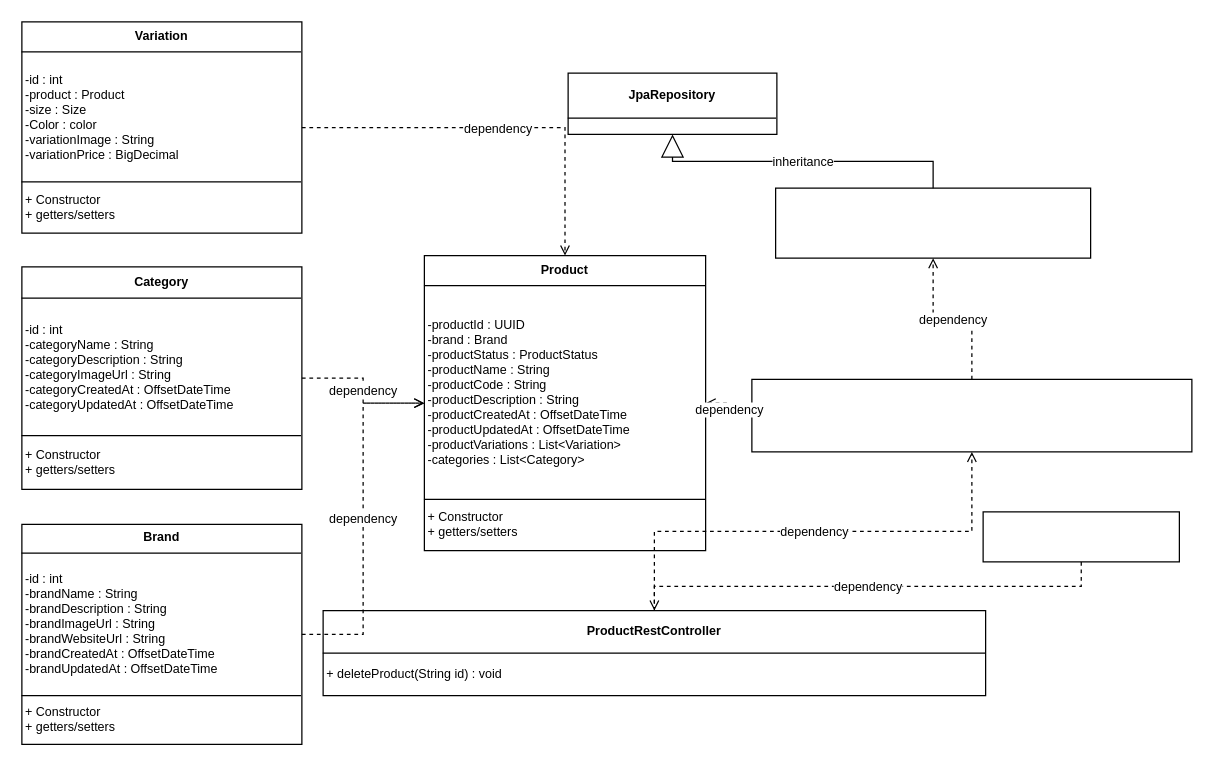
This 1214x766 diagram has some shape labels left out. The centre of each missing label's shape, as x and y in pixels:
Product Dashboard: point (1080, 536)
ProductRepository + findById() : product: point (932, 222)
ProductService + deleteProduct(String id) : void: point (971, 415)
